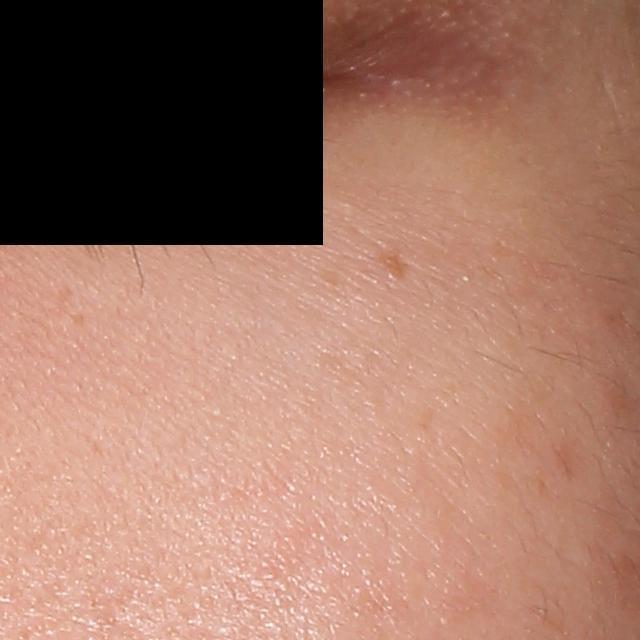melasma: (373, 241, 413, 283)
